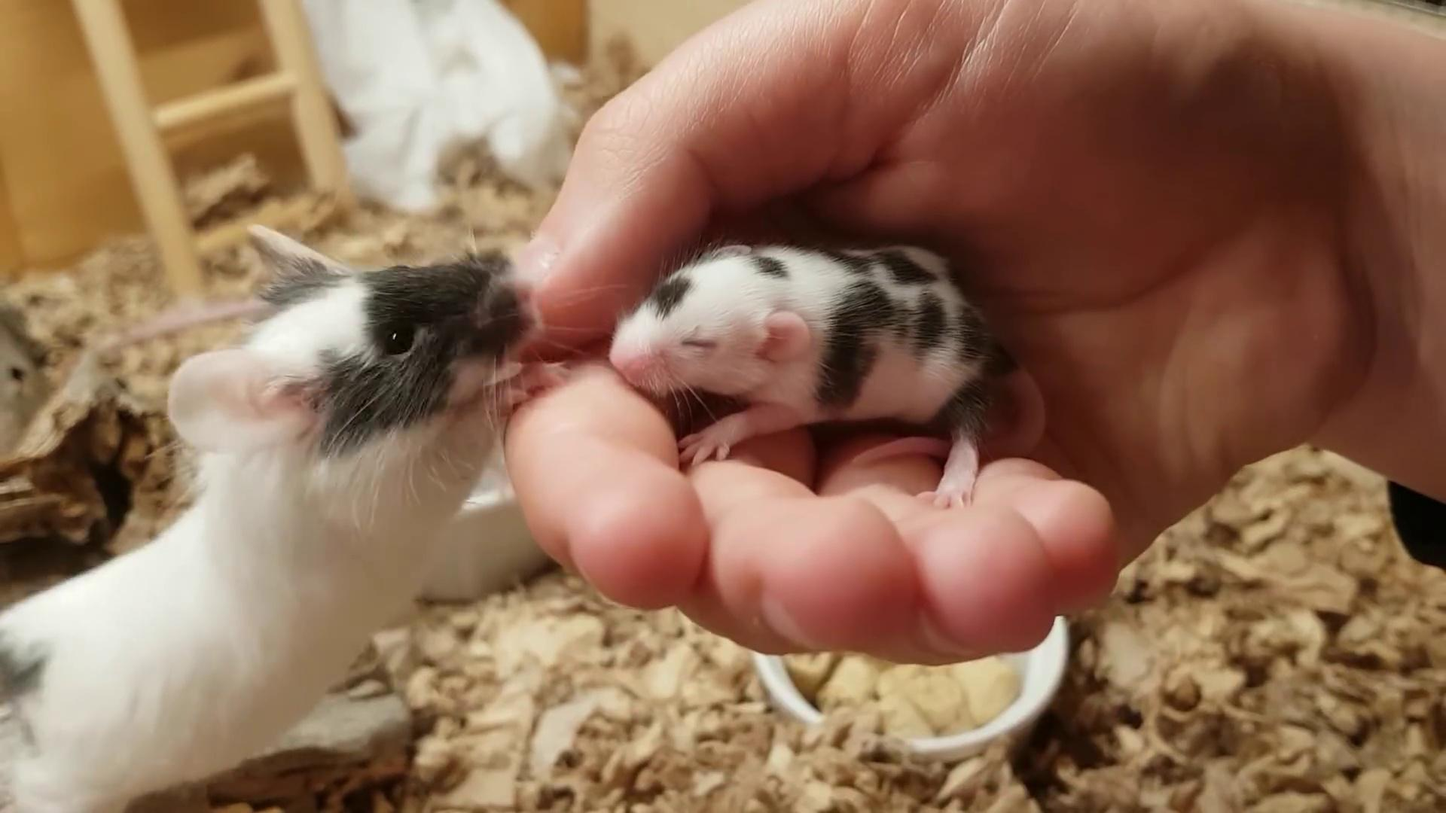rat: (0, 222, 575, 813), (611, 237, 1048, 513)
